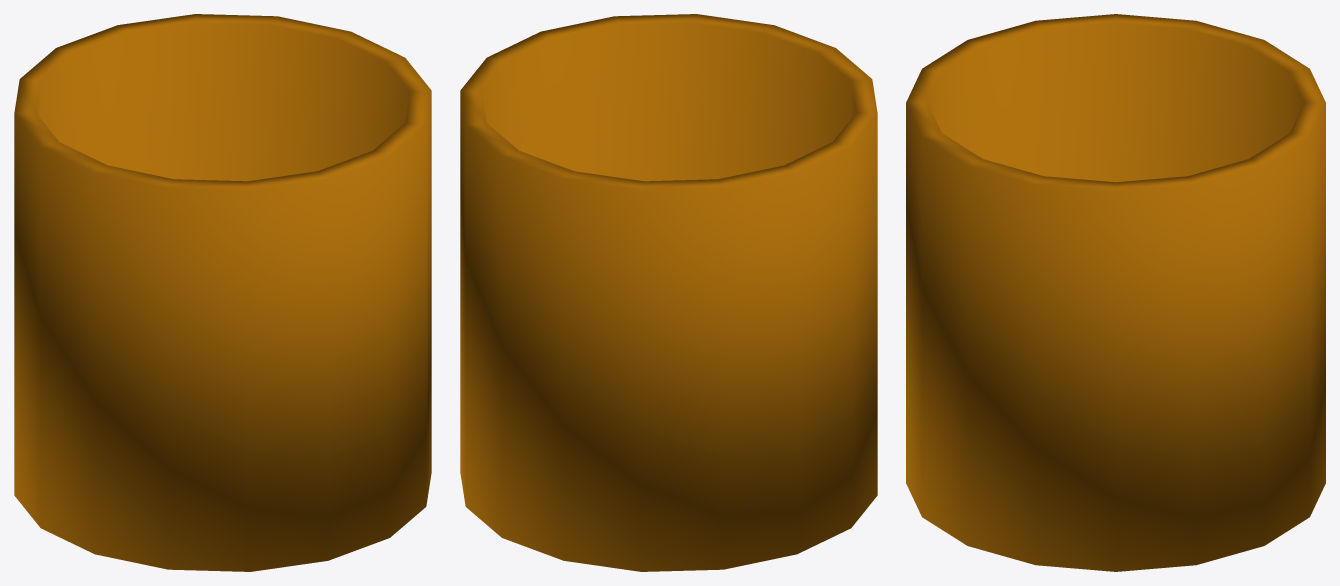
The model's file is Cup 2.fbx.
3 views of the same model, side by side, from view 1: azimuth 30°, elevation 25°; view 2: azimuth 150°, elevation 25°; view 3: azimuth 270°, elevation 25° (orthographic).
Visible parts, largest first — view 1: Cylinder; view 2: Cylinder; view 3: Cylinder.
Boxes of the visible parts, x1=… form: Cylinder: x1=14, y1=14, x2=431, y2=571; Cylinder: x1=460, y1=14, x2=877, y2=571; Cylinder: x1=906, y1=14, x2=1325, y2=571.
Size of the model in its own units: 13.42 by 13.42 by 13.42.
